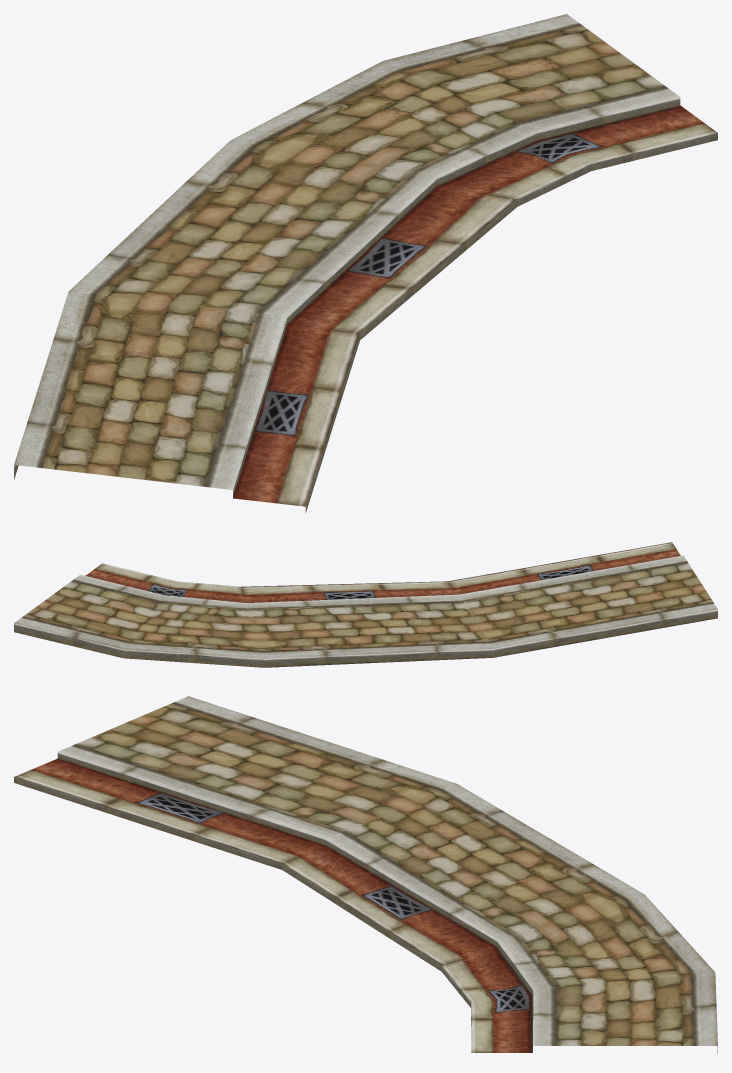
File: obj_masabkrouinle03.glb
The picture shows the model from 3 angles, top to bottom: view 1: azimuth 30°, elevation 25°; view 2: azimuth 150°, elevation 25°; view 3: azimuth 270°, elevation 25°; orthographic projection. The views are drawn at different scales.
Parts seen in each view (by area): view 1: part_0; view 2: part_0; view 3: part_0.
Part boxes in pixels (x1,y1,x2,y2): part_0: (14,14,717,513); part_0: (14,542,717,667); part_0: (14,696,717,1053).
Bounding box in the file's own units: 13.41 × 0.2387 × 11.42.
1 material, 1 textured.
